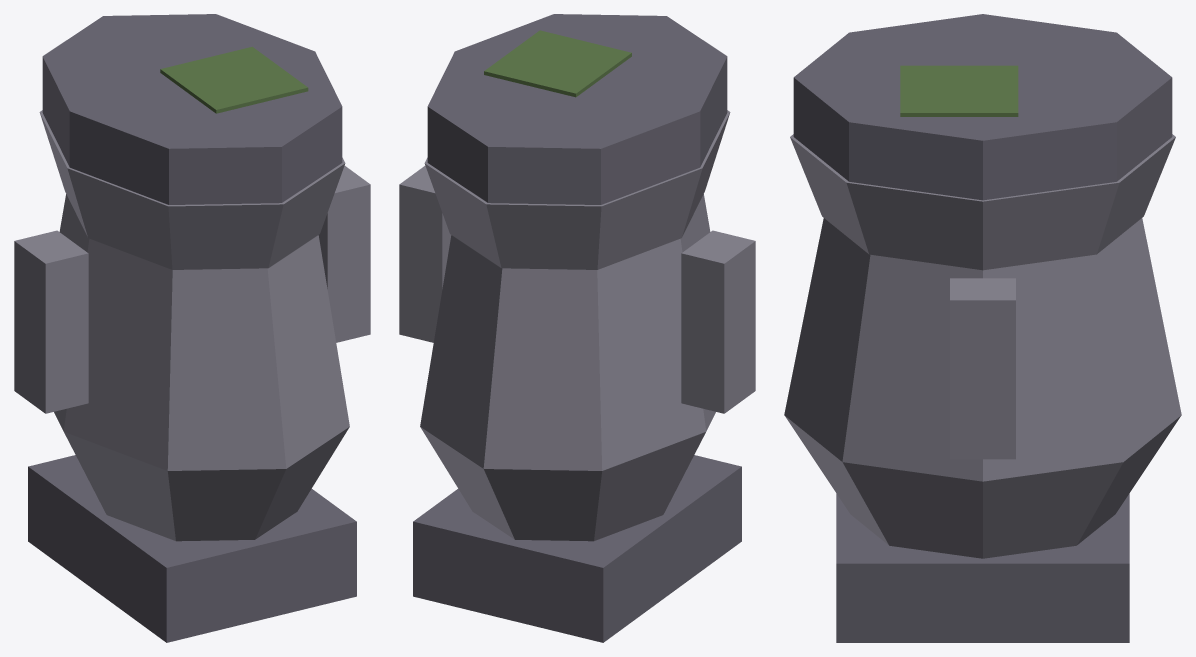
The model's file is env_r4_stone_urn.glb.
3 views of the same model, side by side, from view 1: azimuth 30°, elevation 25°; view 2: azimuth 150°, elevation 25°; view 3: azimuth 270°, elevation 25° (orthographic). The views are drawn at different scales.
Visible parts, largest first — view 1: env_r4_stone_urn; view 2: env_r4_stone_urn; view 3: env_r4_stone_urn.
Part boxes in pixels (left/top/right/bottom): env_r4_stone_urn: left=14, top=14, right=370, bottom=642; env_r4_stone_urn: left=399, top=14, right=755, bottom=642; env_r4_stone_urn: left=784, top=14, right=1181, bottom=642.
Size of the model in its own units: 0.9 by 1.3 by 0.9.
Materials: 1 (1 with a texture image).
